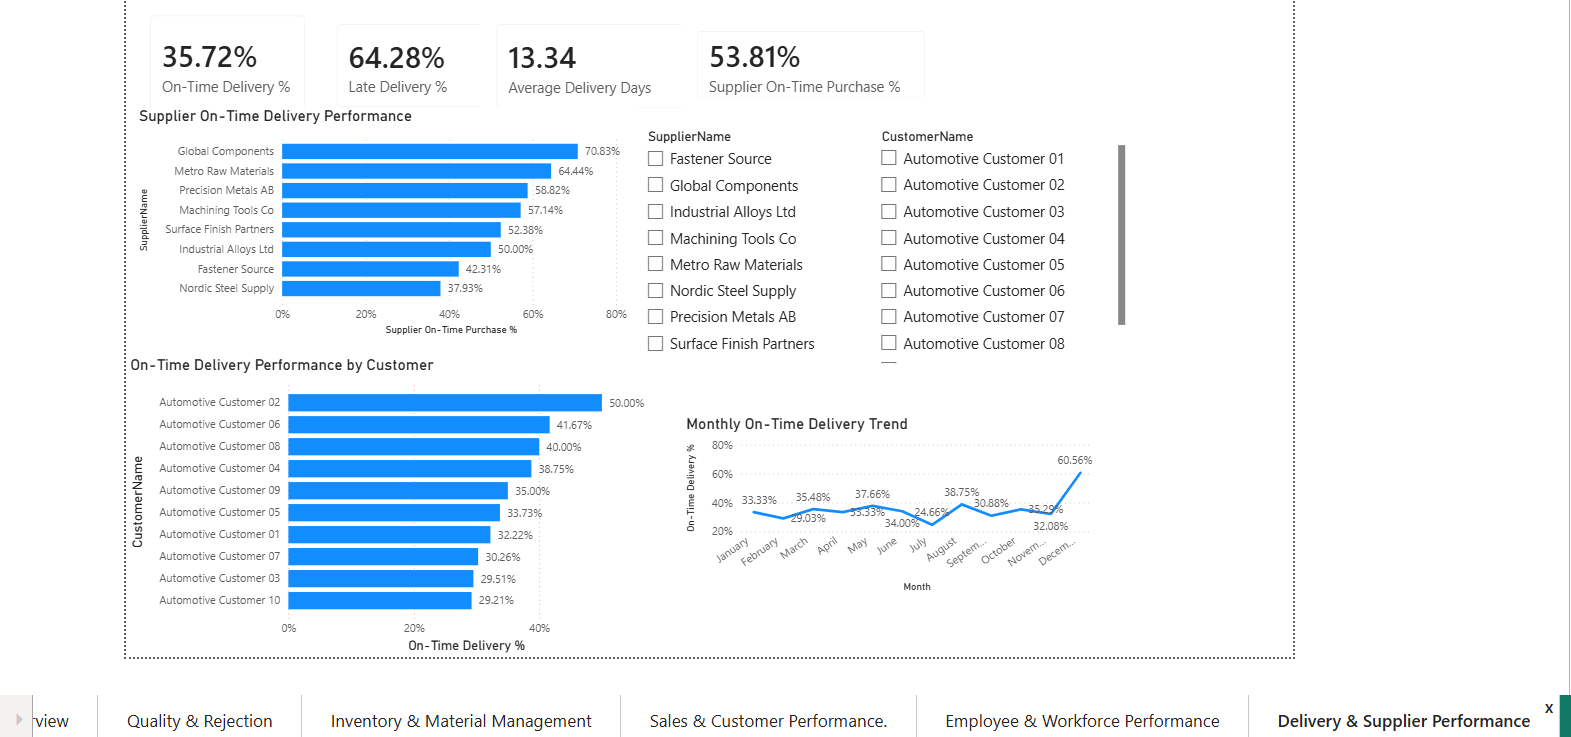

What the dashboard file says about the page in this screenshot:
{"tool":"powerbi","page":{"name":"Delivery & Supplier Performance","canvas":[1280,720],"ordinal":5},"visuals":[{"type":"cardVisual","fields":{"Data":["tblFactSales.On-Time Delivery %"]},"box":[9.4,0,204.9,142.3],"z":0},{"type":"cardVisual","fields":{"Data":["tblFactSales.Late Delivery %"]},"box":[214.3,9.4,220.6,125.1],"z":1000},{"type":"cardVisual","fields":{"Data":["tblFactSales.Average Delivery Days"]},"box":[389.5,9.4,250.3,126.7],"z":2000},{"type":"cardVisual","fields":{"Data":["tblFactSales.Supplier On-Time Purchase %"]},"box":[608.9,17.7,284.7,107.9],"z":3000},{"type":"clusteredBarChart","title":"Supplier On-Time Delivery Performance","fields":{"Category":["tblDimSupplier.SupplierName"],"Y":["tblFactSales.Supplier On-Time Purchase %"]},"box":[9.8,117.5,550,254.6],"z":4000},{"type":"clusteredBarChart","title":"On-Time Delivery Performance by Customer","fields":{"Category":["tblDimCustomer.CustomerName"],"Y":["tblFactSales.On-Time Delivery %"]},"box":[0,390.1,585.9,329.7],"z":5000},{"type":"slicer","fields":{"Values":["tblDimSupplier.SupplierName"]},"box":[559.8,135.5,285.6,267.7],"z":6000},{"type":"slicer","fields":{"Values":["tblDimCustomer.CustomerName"]},"box":[816.3,135.3,285.3,267.7],"z":7000},{"type":"lineChart","title":"Monthly On-Time Delivery Trend","fields":{"Category":["tblFactSales.OrderDate.Variation.Date Hierarchy.Year","tblFactSales.OrderDate.Variation.Date Hierarchy.Quarter","tblFactSales.OrderDate.Variation.Date Hierarchy.Month","tblFactSales.OrderDate.Variation.Date Hierarchy.Day"],"Y":["tblFactSales.On-Time Delivery %"]},"box":[608.8,455.4,455.4,199.1],"z":8000}]}

Visuals, with their boxes on the page's 1280x720 design canvas (x1, y1, x2, y2). These are canvas units, not pixel positions in the 1571x737 screenshot, which may show the page scaled, cropped or inside an application window:
cardVisual - tblFactSales.On-Time Delivery %: (x1=9, y1=0, x2=214, y2=142)
cardVisual - tblFactSales.Late Delivery %: (x1=214, y1=9, x2=435, y2=134)
cardVisual - tblFactSales.Average Delivery Days: (x1=390, y1=9, x2=640, y2=136)
cardVisual - tblFactSales.Supplier On-Time Purchase %: (x1=609, y1=18, x2=894, y2=126)
"Supplier On-Time Delivery Performance" clusteredBarChart: (x1=10, y1=118, x2=560, y2=372)
"On-Time Delivery Performance by Customer" clusteredBarChart: (x1=0, y1=390, x2=586, y2=720)
slicer - tblDimSupplier.SupplierName: (x1=560, y1=136, x2=845, y2=403)
slicer - tblDimCustomer.CustomerName: (x1=816, y1=135, x2=1102, y2=403)
"Monthly On-Time Delivery Trend" lineChart: (x1=609, y1=455, x2=1064, y2=654)
